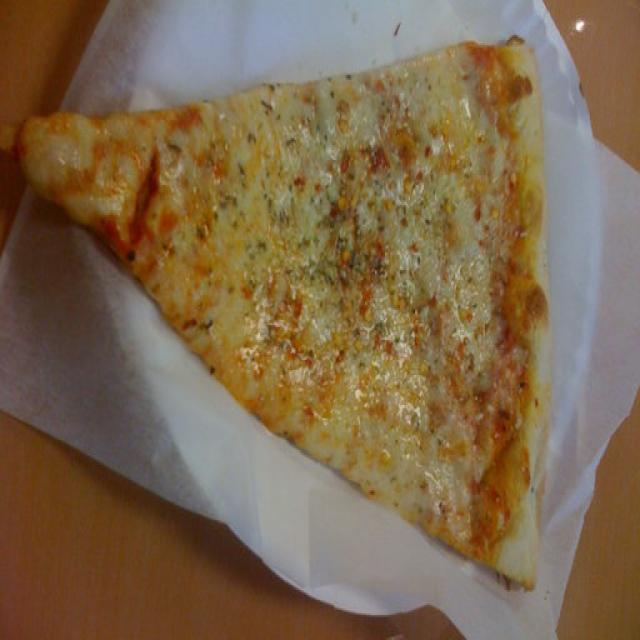Pizza: (16, 39, 551, 587)
